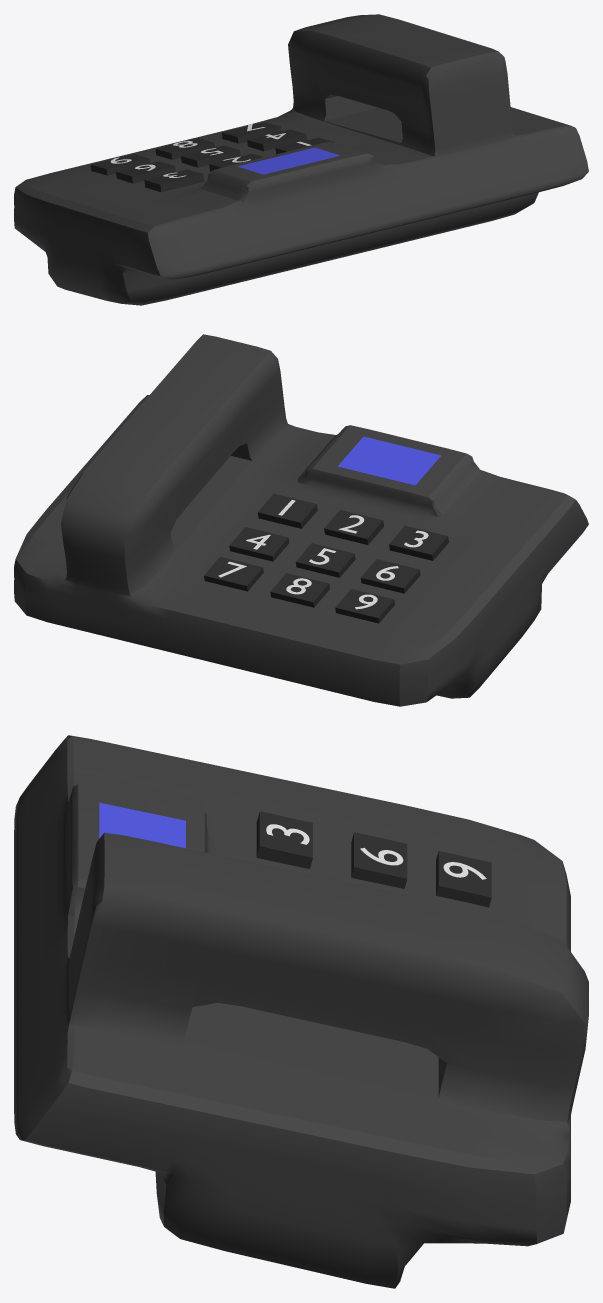
Rendered from TelefoneFixo.fbx.
The picture shows the model from 3 angles, top to bottom: view 1: azimuth 30°, elevation 25°; view 2: azimuth 150°, elevation 25°; view 3: azimuth 270°, elevation 25°; orthographic projection. The views are drawn at different scales.
Visible parts, largest first — view 1: Cube, Cube.003, Cube.010; view 2: Cube, Cube.003, Cube.010; view 3: Cube, Cube.003, Cube.010.
Boxes of the visible parts, <box> form: Cube: <box>14,14,588,305</box>; Cube.003: <box>90,122,334,192</box>; Cube.010: <box>237,147,340,174</box>; Cube: <box>14,334,588,706</box>; Cube.003: <box>204,493,448,623</box>; Cube.010: <box>337,436,441,485</box>; Cube: <box>14,735,588,1288</box>; Cube.003: <box>256,811,491,907</box>; Cube.010: <box>99,802,185,848</box>.
Bounding box in the file's own units: 640 × 311 × 442.
